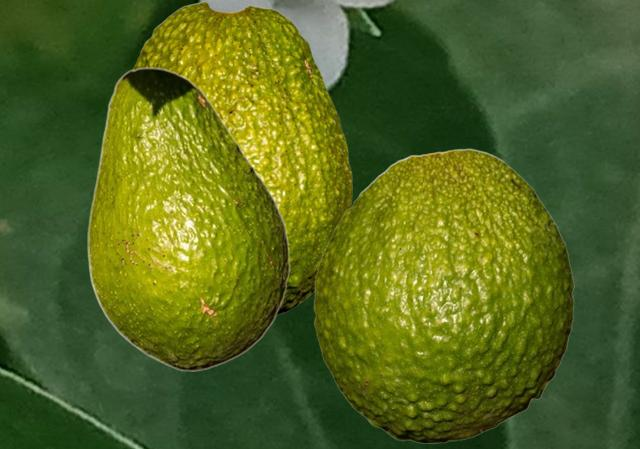avocado: (313, 148, 573, 442), (132, 1, 351, 316), (87, 67, 289, 370)
